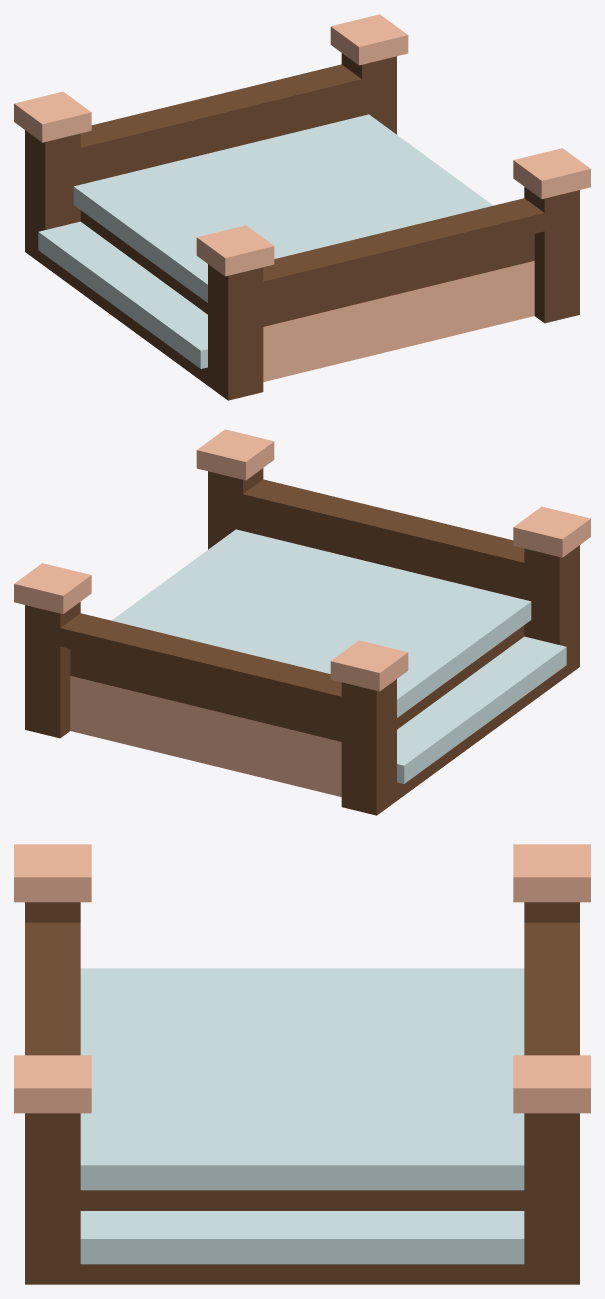
The model's file is bridge.glb.
3 renders of one model, top to bottom at view 1: azimuth 30°, elevation 25°; view 2: azimuth 150°, elevation 25°; view 3: azimuth 270°, elevation 25°, orthographic. The views are drawn at different scales.
Parts seen in each view (by area): view 1: bridge_wood; view 2: bridge_wood; view 3: bridge_wood.
Boxes of the visible parts, x1,y1,x2,y2 form: bridge_wood: [14, 14, 590, 400]; bridge_wood: [14, 429, 590, 815]; bridge_wood: [14, 844, 590, 1284].
Bounding box in the file's own units: 1 × 0.3846 × 1.
